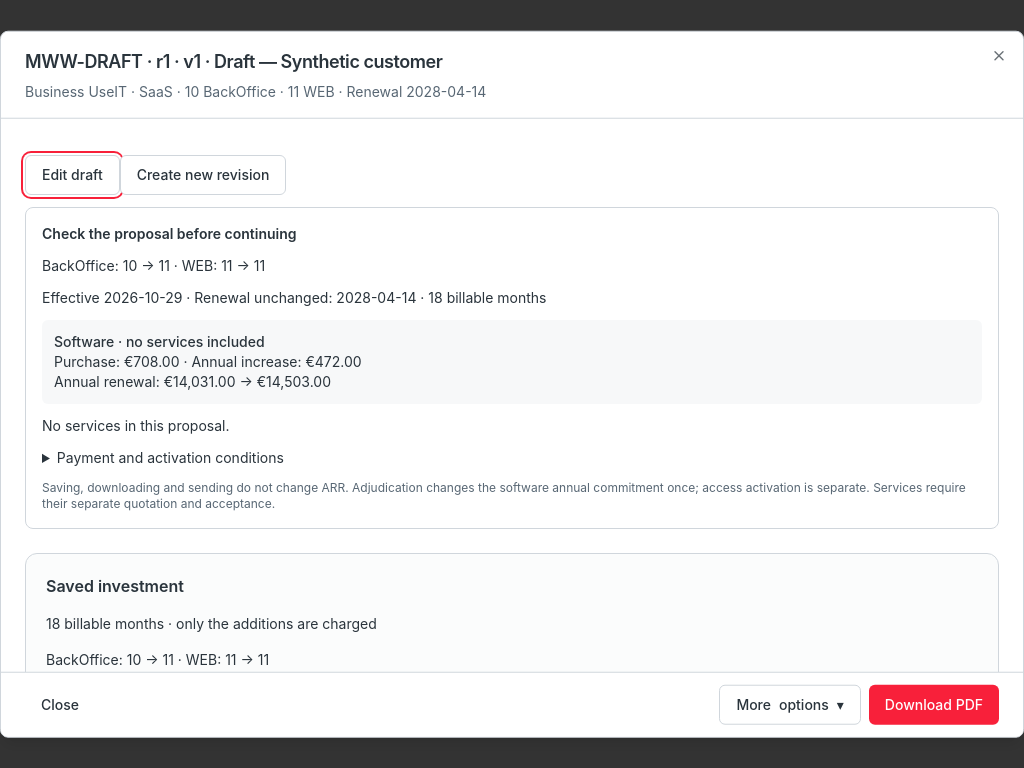
it: Addition proposal editor › does not download after a failed save and keeps the entered scope
The width and height of the screenshot is (1024, 768).
Click the button "Edit draft". click: x=72, y=175
box: [25,155,120,195]
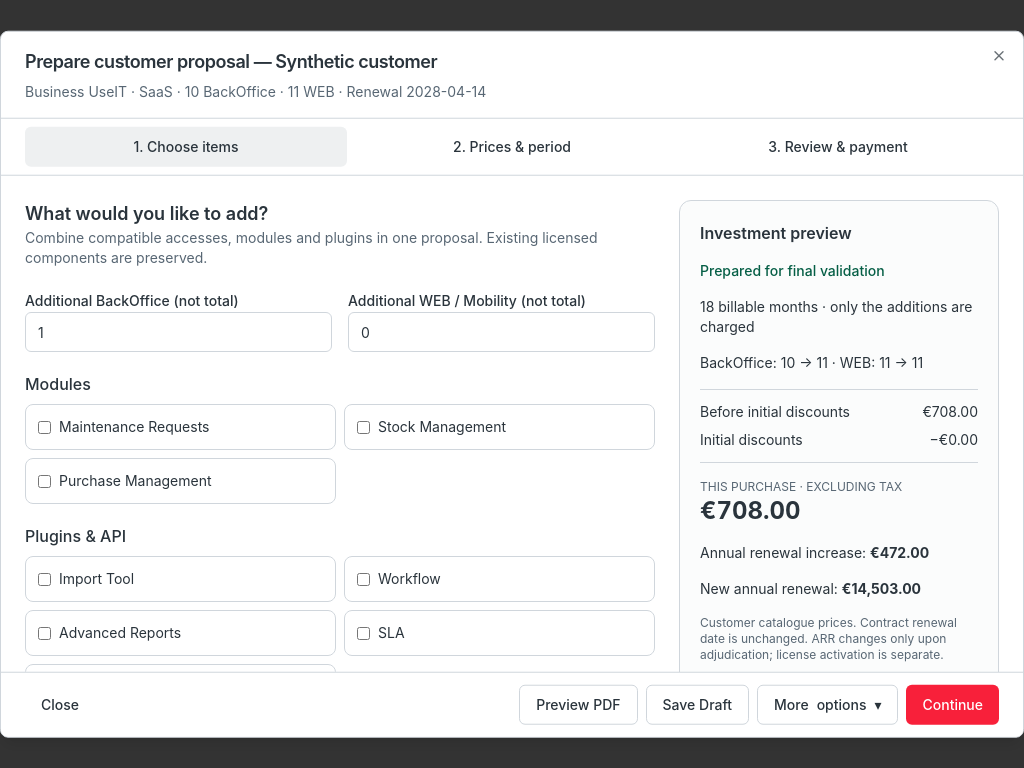
Click the button "3. Review & payment". click: x=838, y=147
box: [677,127,999,167]
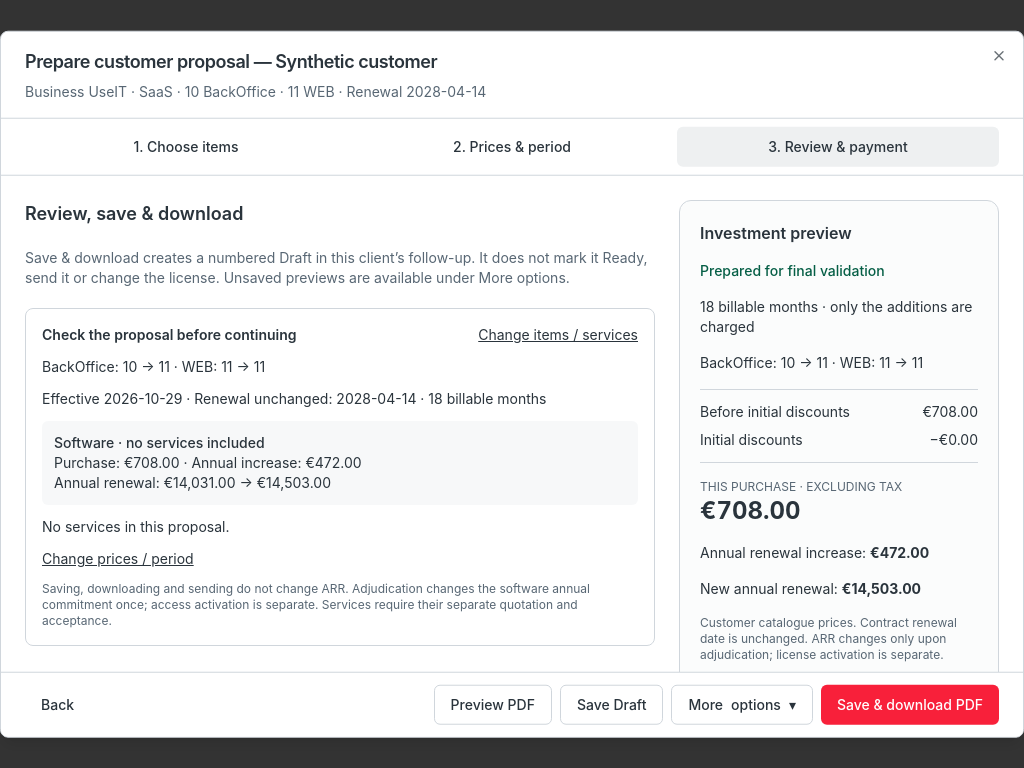
Click the button "Save & download PDF". click: x=910, y=704
box: [821,684,999,724]
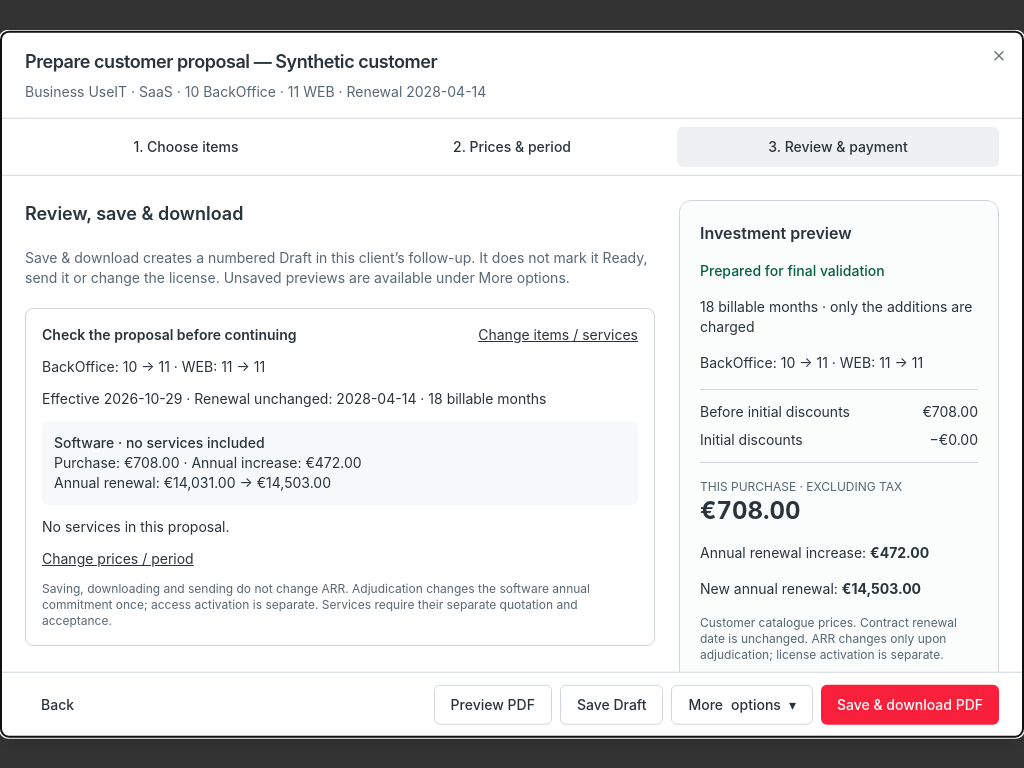
Click the button "1. Choose items". click: x=186, y=147
box: [25,127,347,167]
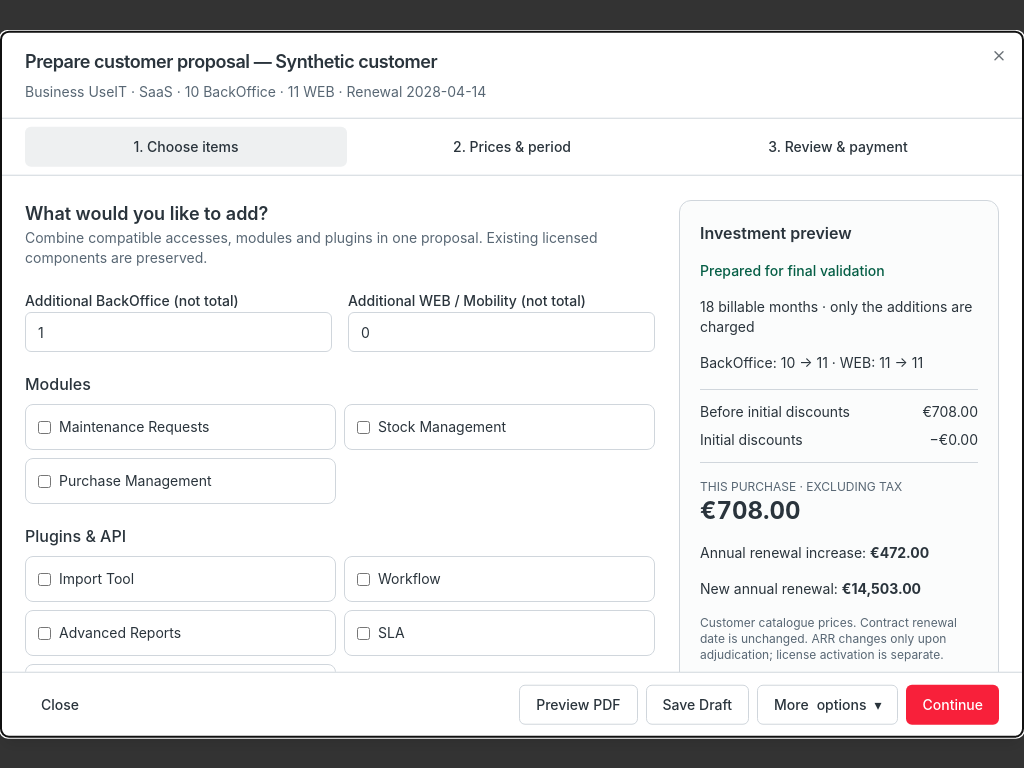
Check: the number field labelled "Additional BackOffice (not total)" holds "1", box [25,312,332,352]
